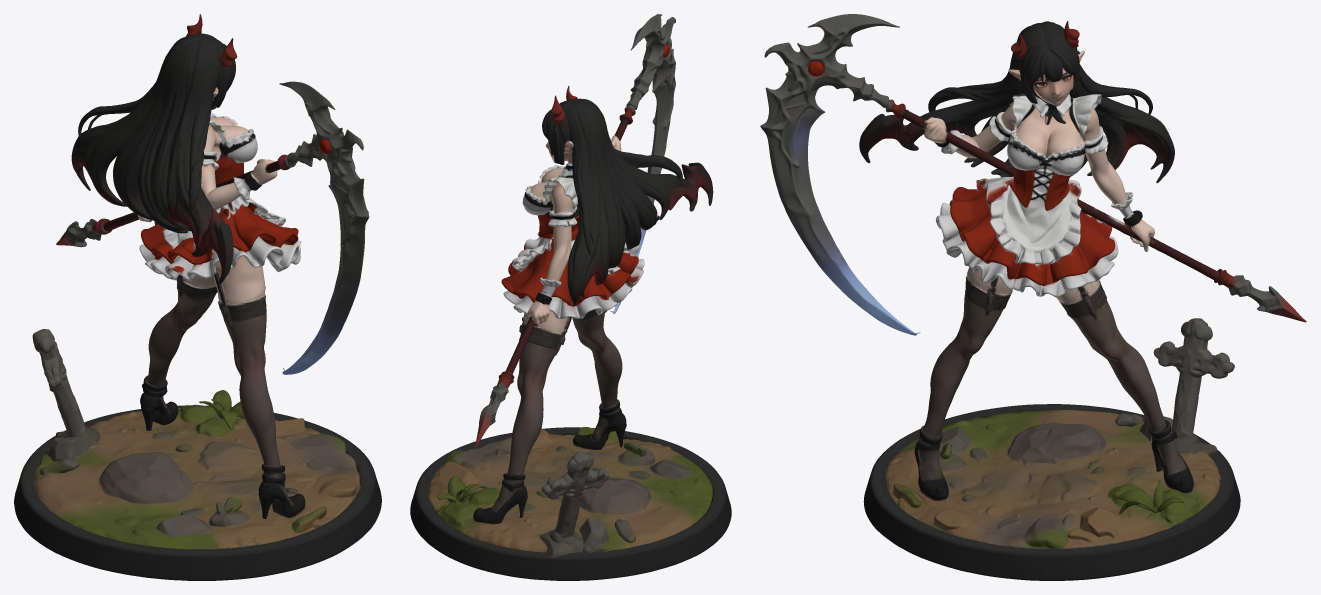
The model's file is inspiration-436.glb.
The picture shows the model from 3 angles, left to right: view 1: azimuth 30°, elevation 25°; view 2: azimuth 150°, elevation 25°; view 3: azimuth 270°, elevation 25°; orthographic projection. The views are drawn at different scales.
Parts seen in each view (by area): view 1: tripo_node_dfb3e496-4881-4580-a696-7a4ef95e2d32; view 2: tripo_node_dfb3e496-4881-4580-a696-7a4ef95e2d32; view 3: tripo_node_dfb3e496-4881-4580-a696-7a4ef95e2d32.
Boxes of the visible parts, x1,y1,x2,y2 form: tripo_node_dfb3e496-4881-4580-a696-7a4ef95e2d32: (14, 14, 381, 580); tripo_node_dfb3e496-4881-4580-a696-7a4ef95e2d32: (410, 14, 731, 580); tripo_node_dfb3e496-4881-4580-a696-7a4ef95e2d32: (760, 14, 1306, 580).
Bounding box in the file's own units: 0.6847 × 0.9999 × 1.
1 material, 1 textured.
